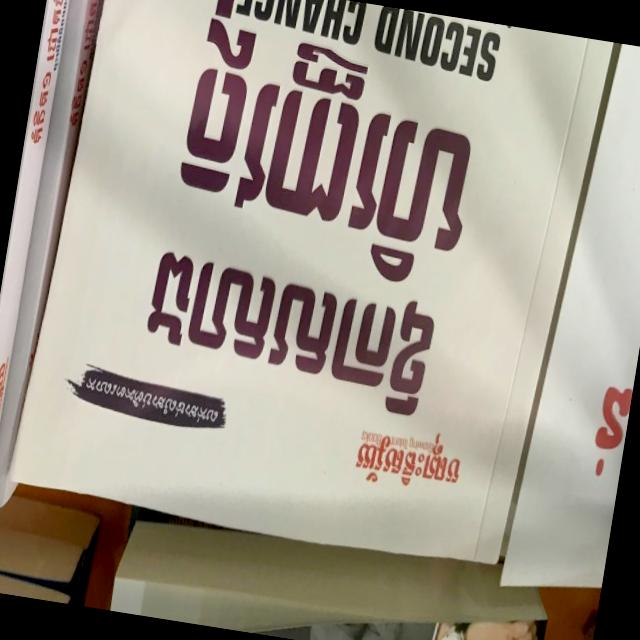Yolov11kh: (167, 17, 485, 294), (140, 239, 442, 418), (80, 364, 223, 437), (349, 420, 464, 495)
